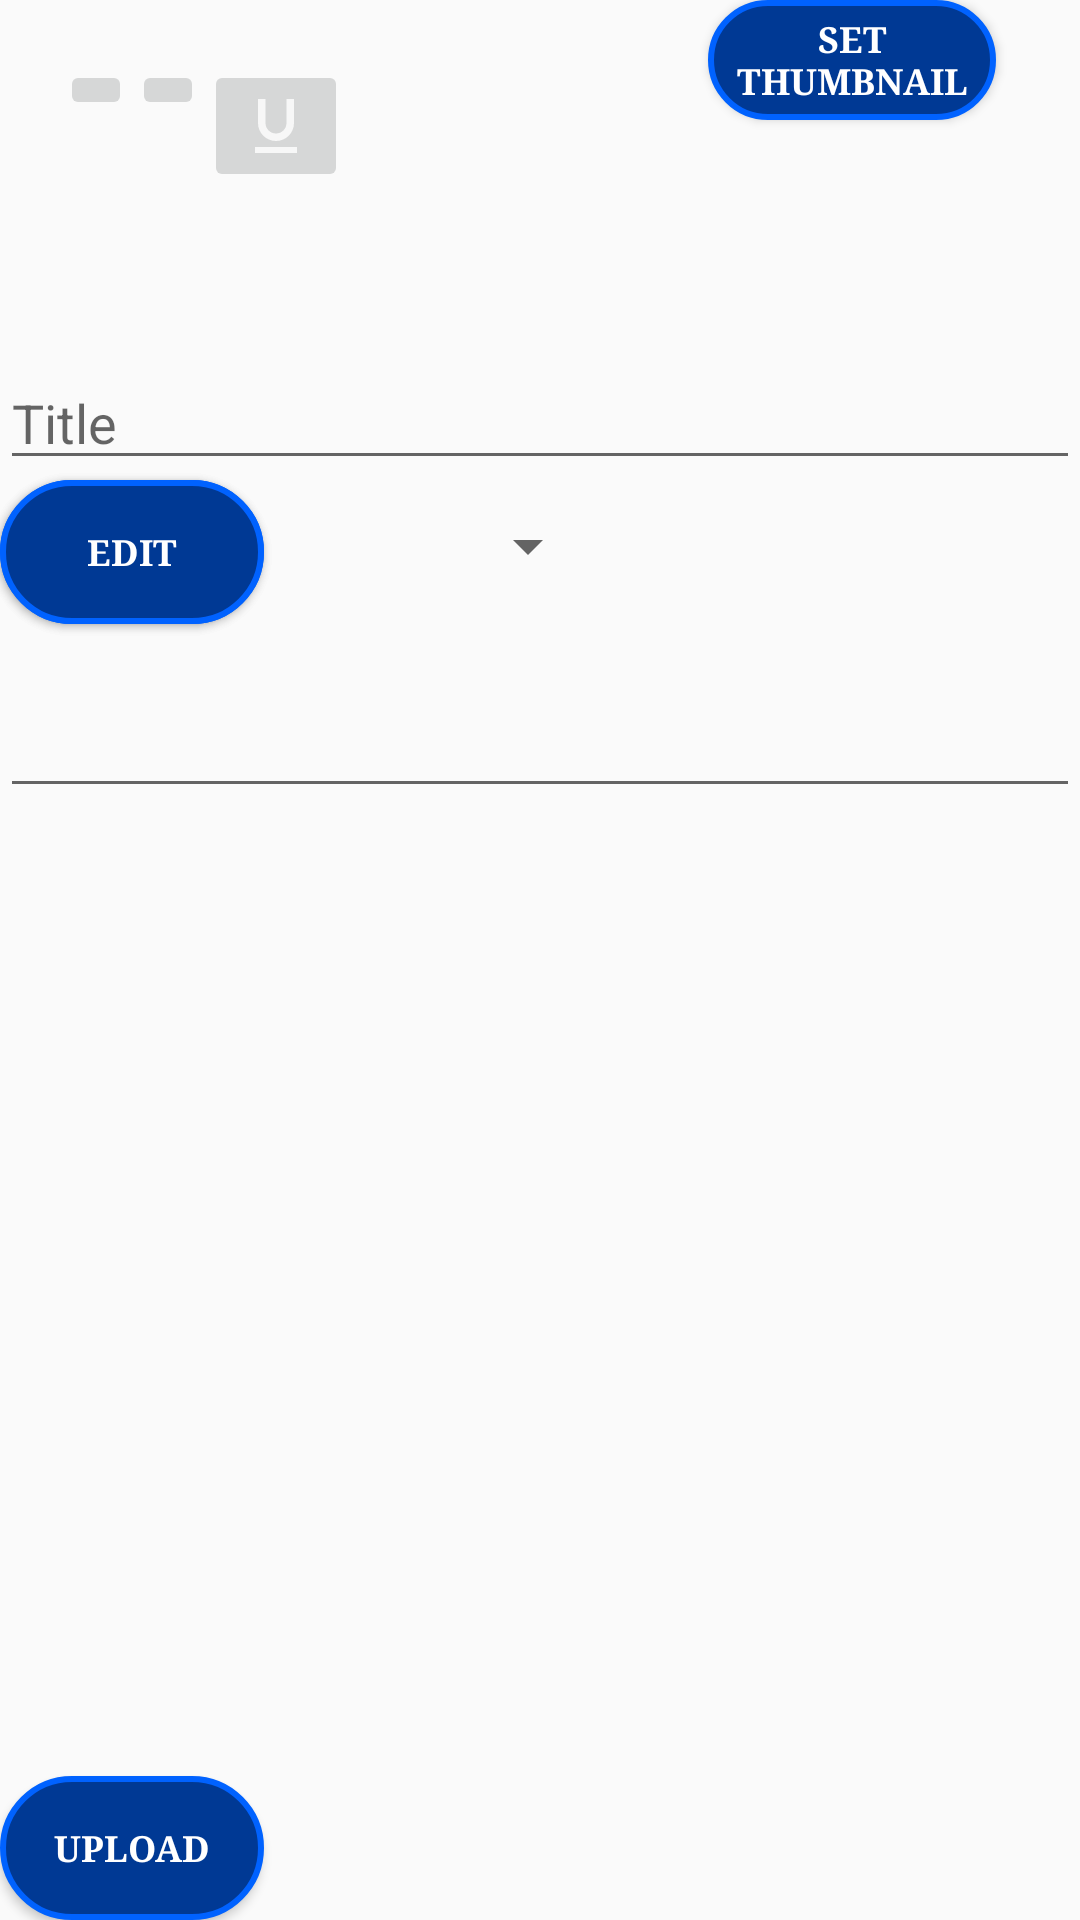

Icon bounding boxes for this 1080 x 1920 phone screenshot, format (x1=x1, y1=y1, x2=x2, y2=y2):
underline: (x1=216, y1=78, x2=336, y2=174)
